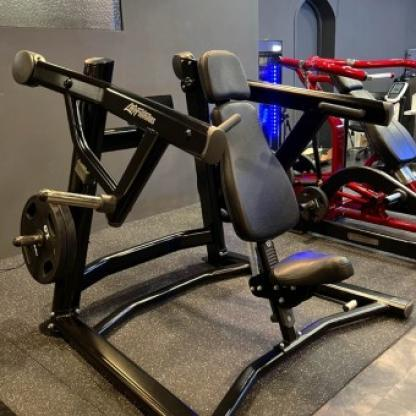shoulder press machine: (2, 25, 416, 416)
